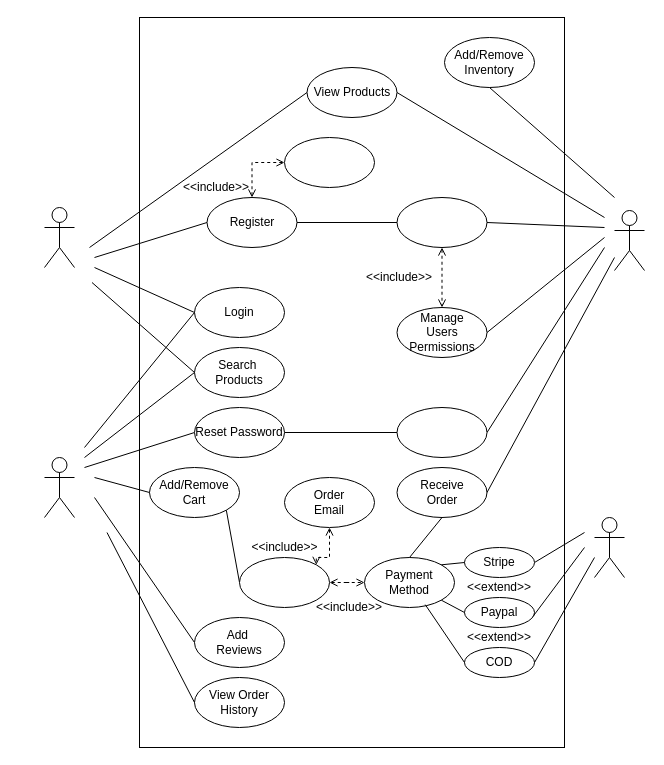
Image size: 664x765. Some labels were removed from this diagram. Each missing label, with the box of its shape:
Admin: (614, 210, 644, 270)
Confirmation Email: (284, 136, 374, 188)
Manage Registered Users: (396, 196, 487, 248)
New User: (44, 206, 74, 268)
Payment Gateaway: (594, 516, 624, 578)
Place Order: (238, 556, 330, 608)
Registered user: (44, 456, 74, 518)
Request Change: (396, 406, 487, 458)
